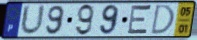9: (99, 4, 121, 37), (75, 3, 96, 37), (45, 5, 66, 36)
D: (149, 4, 176, 36)
E: (126, 3, 153, 36)
U: (19, 4, 47, 37)
